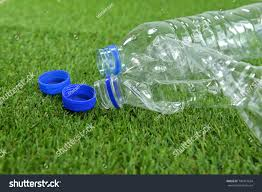plastic_bottle: (95, 39, 262, 143), (103, 2, 262, 79)
